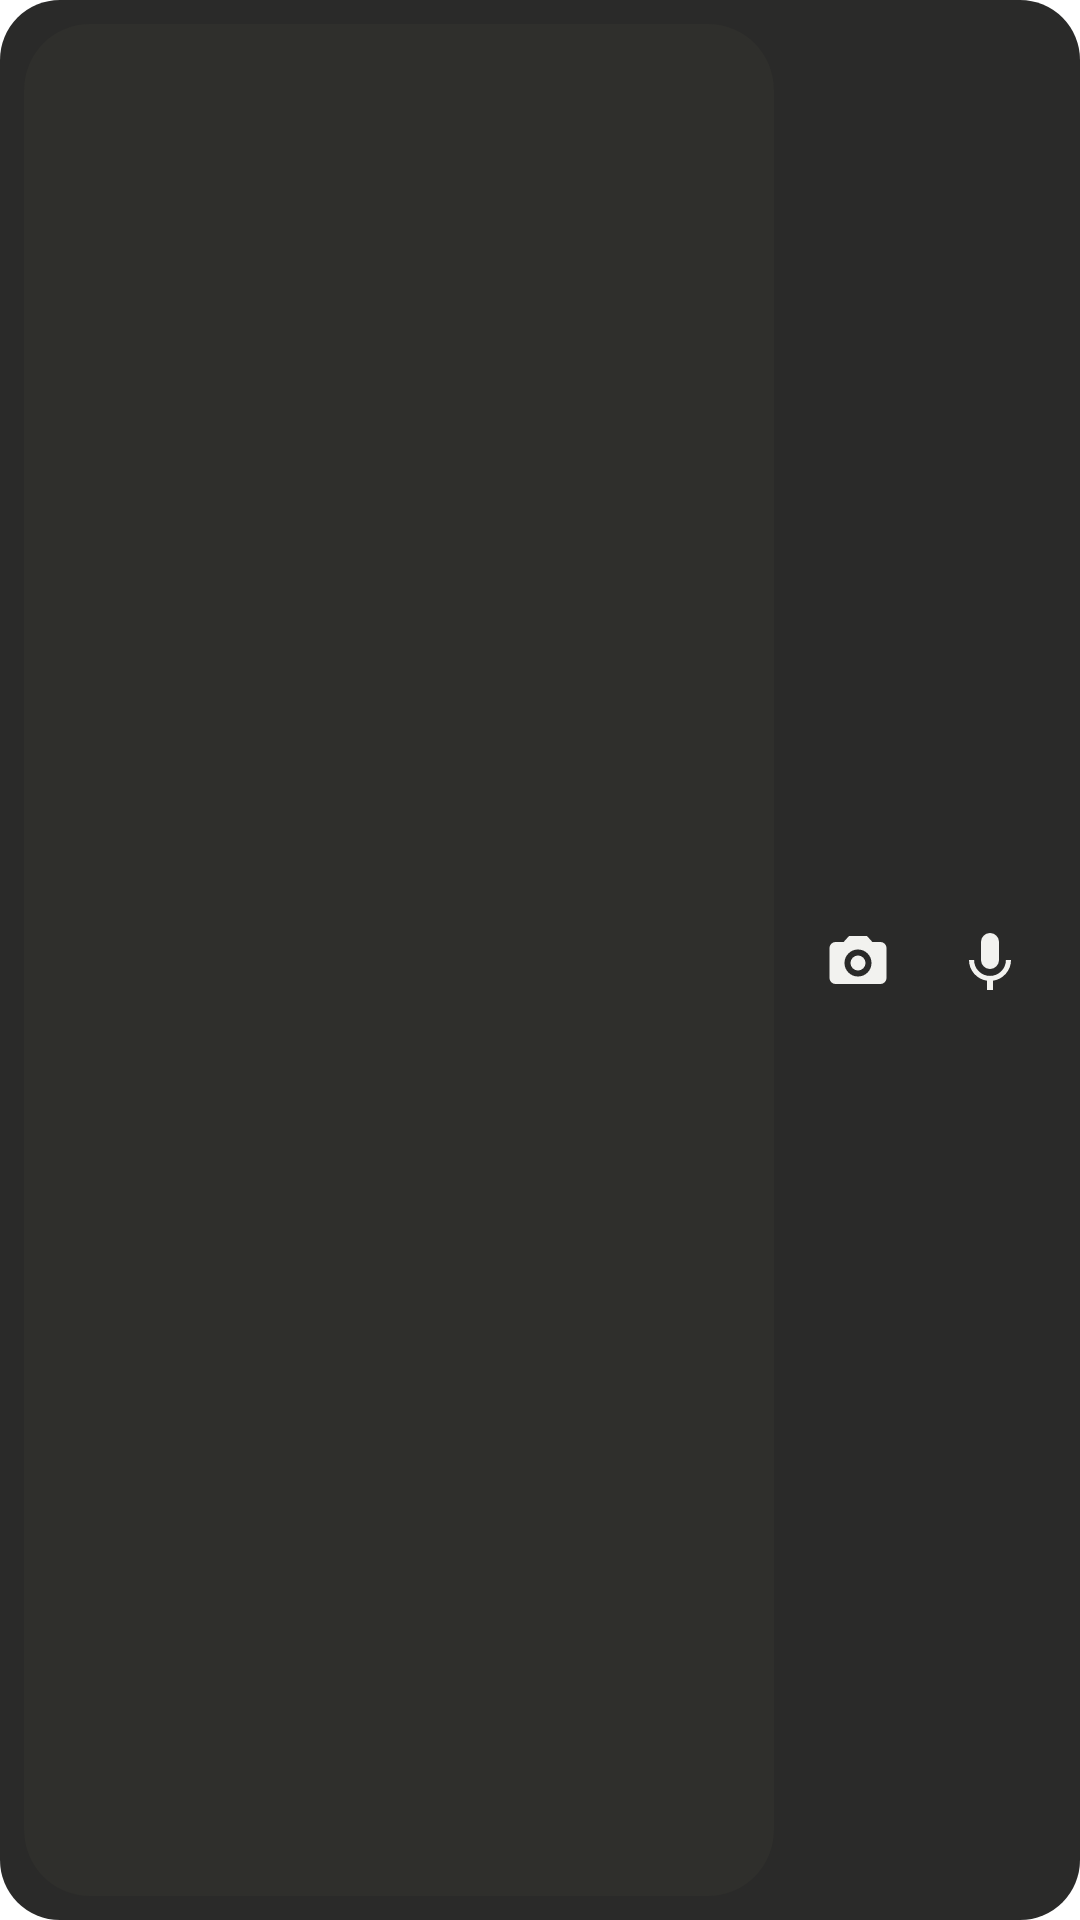

Screen size 1080 x 1920. Icon name, then its center in pixels as (x,y):
New chat by voice: (990,961)
New chat with a photo: (858,960)
